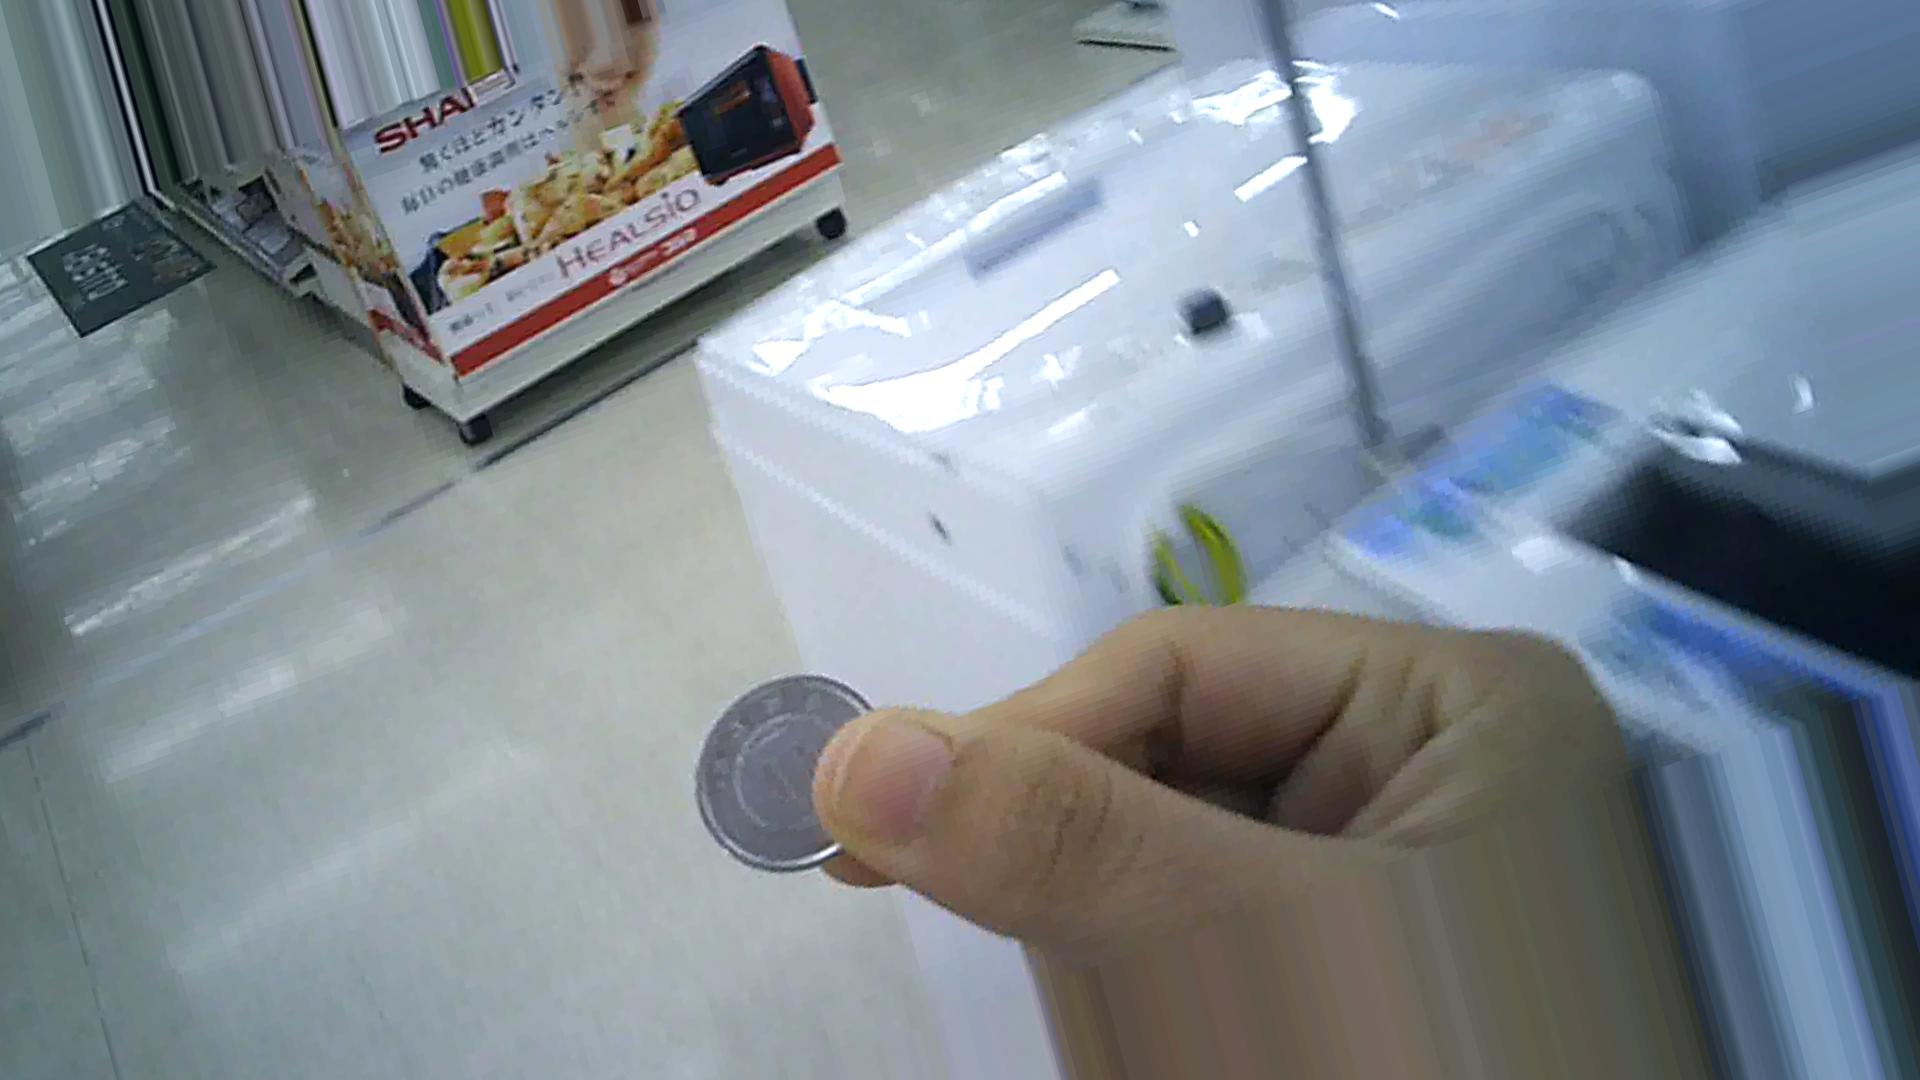1 Yen: (669, 662, 899, 887)
